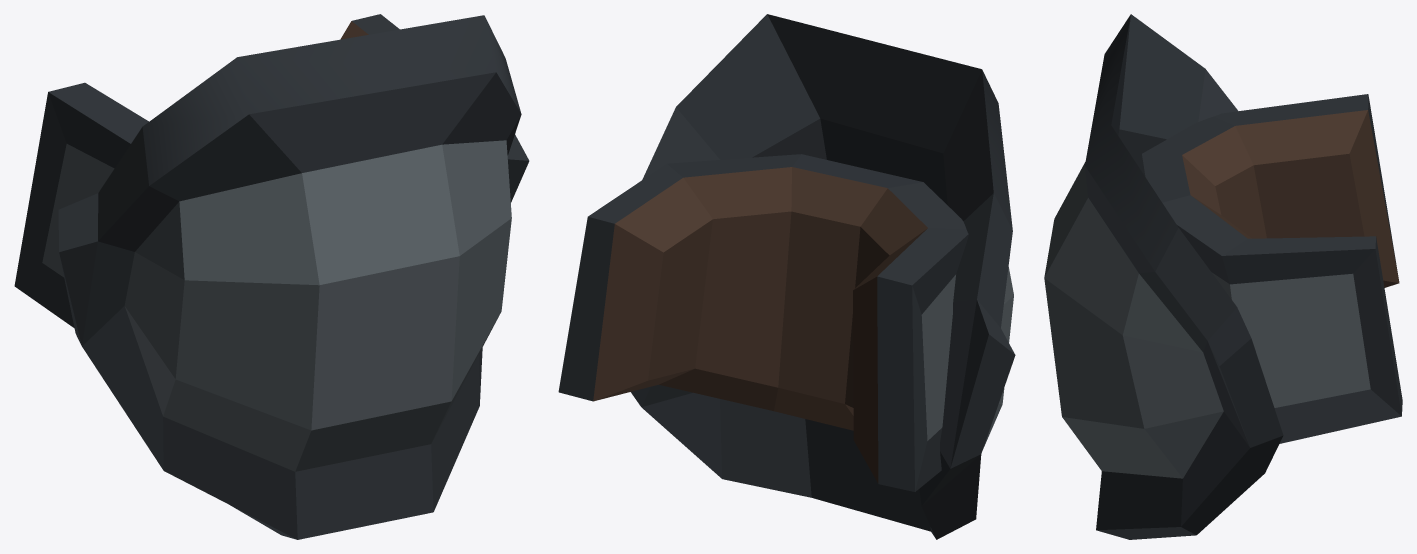
File: Chr_KneeAttachRight_09_Static.fbx
3 renders of one model, left to right at view 1: azimuth 30°, elevation 25°; view 2: azimuth 150°, elevation 25°; view 3: azimuth 270°, elevation 25°, orthographic. The views are drawn at different scales.
Visible parts, largest first — view 1: Chr_KneeAttachRight_09_Static; view 2: Chr_KneeAttachRight_09_Static; view 3: Chr_KneeAttachRight_09_Static.
Boxes of the visible parts, x1,y1,x2,y2 form: Chr_KneeAttachRight_09_Static: (14,14,529,539); Chr_KneeAttachRight_09_Static: (558,14,1015,539); Chr_KneeAttachRight_09_Static: (1044,14,1402,539).
Size of the model in its own units: 0.2107 by 0.222 by 0.1614.
